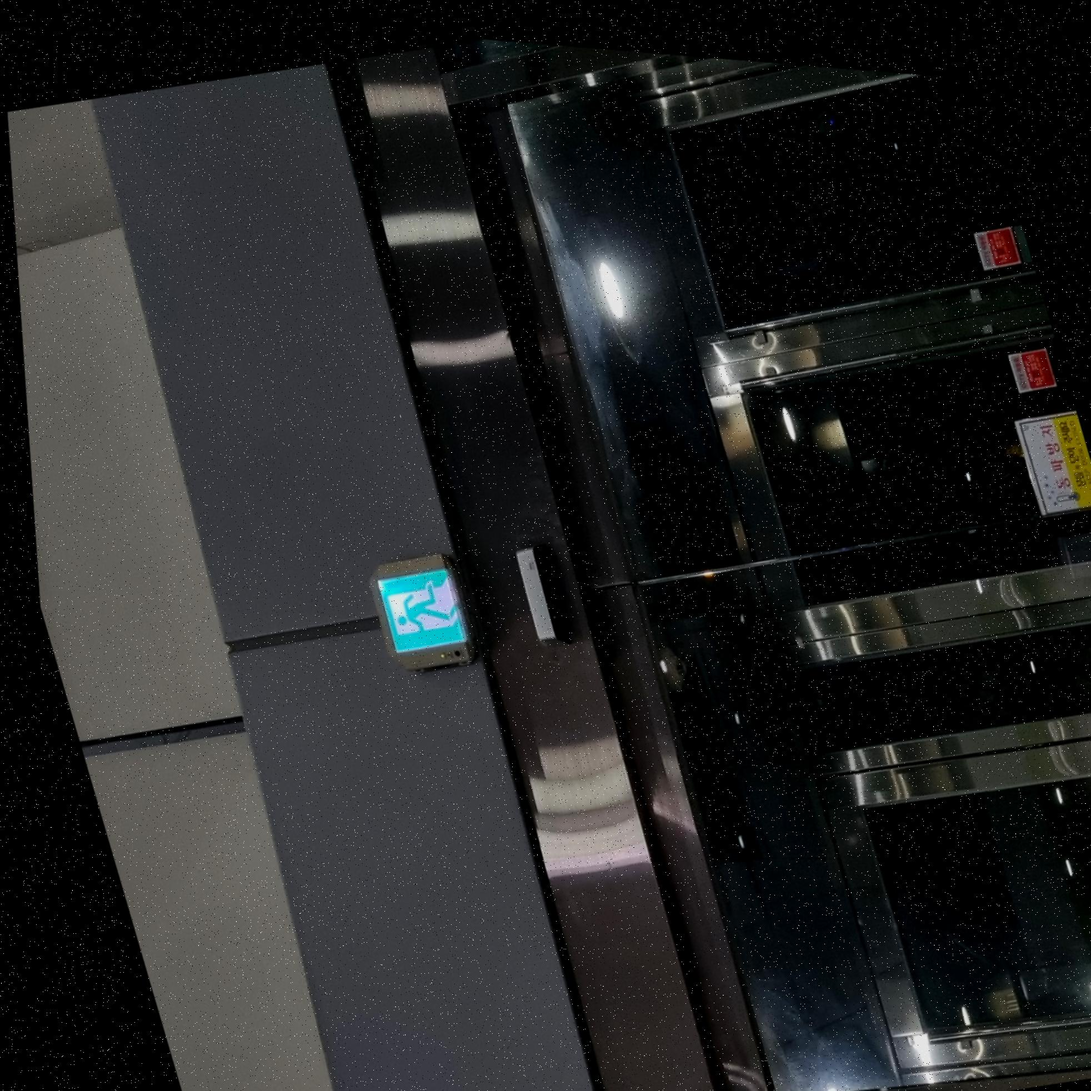emergency_exit: (370, 552, 475, 671), (1013, 410, 1090, 518), (973, 224, 1030, 273), (1006, 347, 1058, 394)
